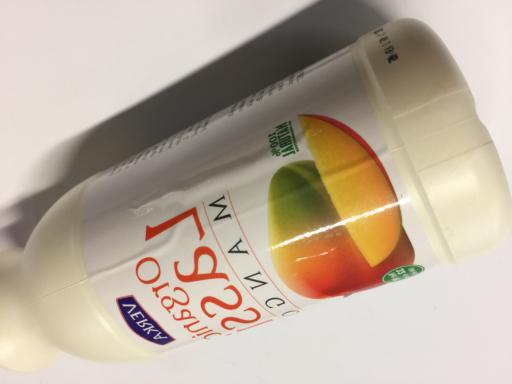plastic: (0, 5, 512, 377)
